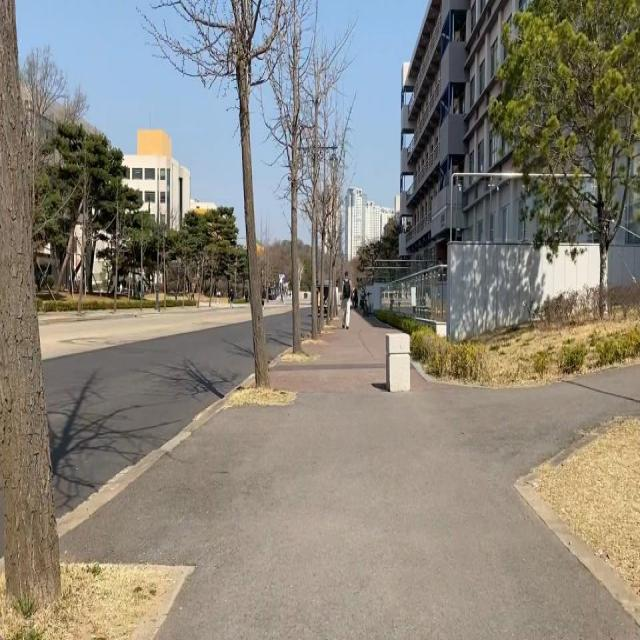sidewalk: (57, 308, 640, 640)
